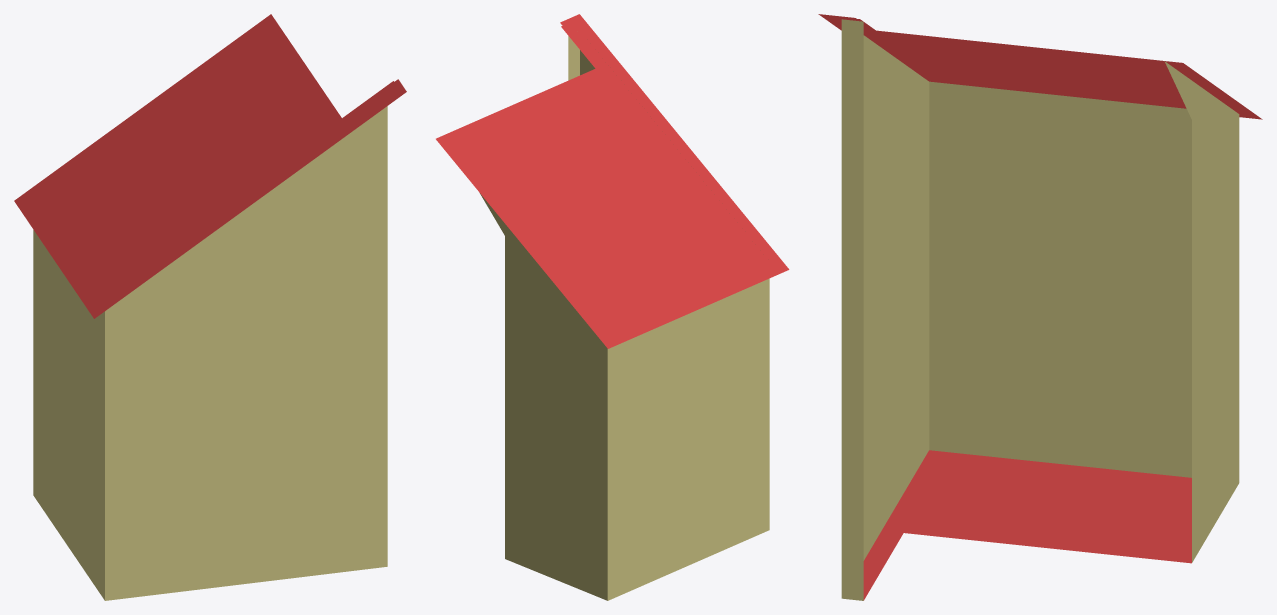
3 views of the same model, side by side, from view 1: azimuth 30°, elevation 25°; view 2: azimuth 150°, elevation 25°; view 3: azimuth 270°, elevation 25° (orthographic). The views are drawn at different scales.
Size of the model in its own units: 5.24 by 5.74 by 8.4.
